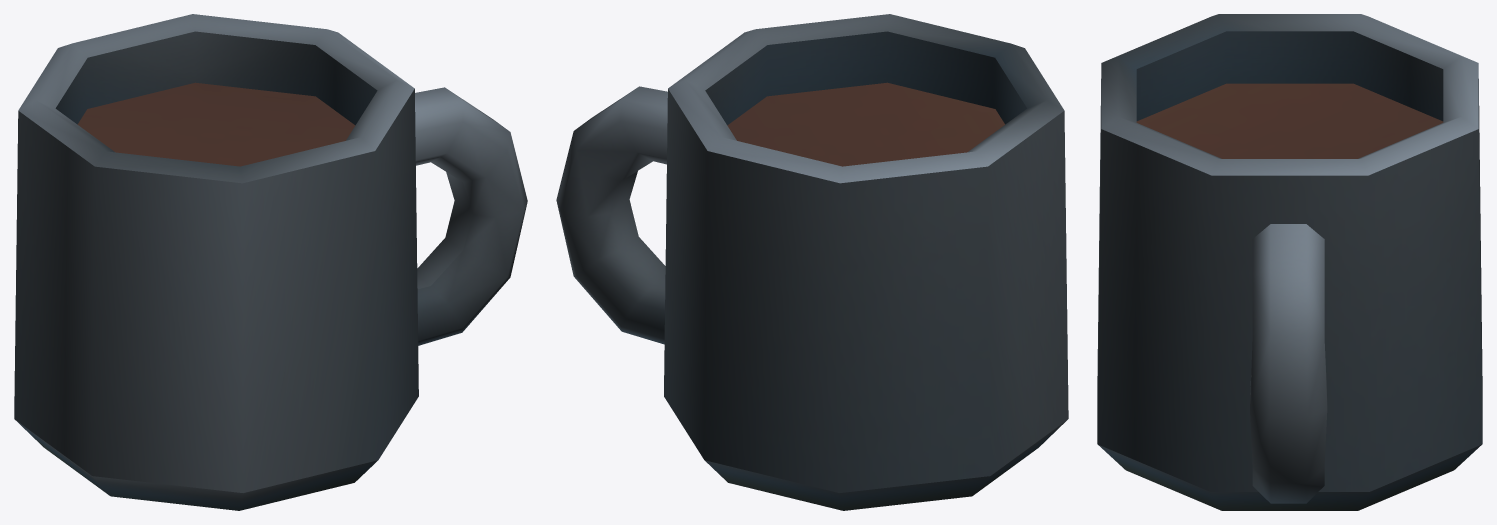
File: cup_coffee.fbx
3 renders of one model, left to right at view 1: azimuth 30°, elevation 25°; view 2: azimuth 150°, elevation 25°; view 3: azimuth 270°, elevation 25°, orthographic. The views are drawn at different scales.
Parts seen in each view (by area): view 1: cup_coffee; view 2: cup_coffee; view 3: cup_coffee.
Part boxes in pixels (left/top/right/bottom): cup_coffee: left=14, top=14, right=527, bottom=510; cup_coffee: left=556, top=14, right=1068, bottom=510; cup_coffee: left=1097, top=14, right=1482, bottom=510.
Bounding box in the file's own units: 32.88 × 23.53 × 23.13.
